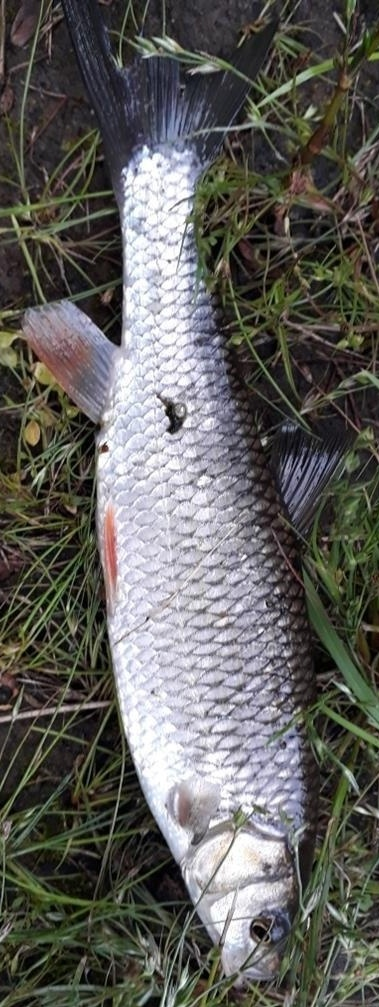Leuciscus cephalus: (20, 1, 359, 987)
